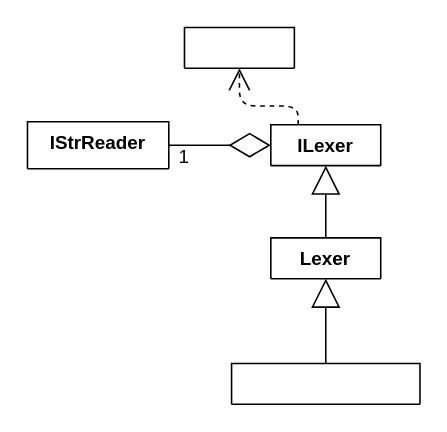
Some shapes in this 447 by 432 pixel diagram are drawn without their labels. Here are the shapes that lost their labels. From the top down, the centre of each, then its label:
At (238,47): "Token".
At (325,383): "ProgLangLexer".
